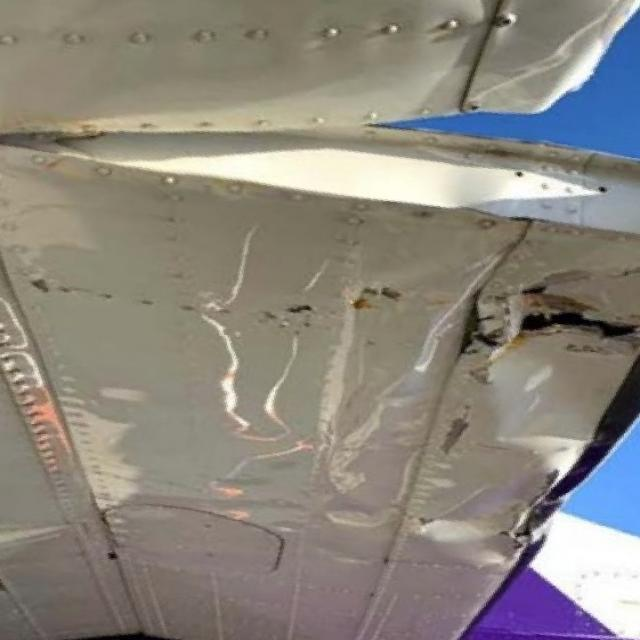dent: (421, 475, 536, 586)
